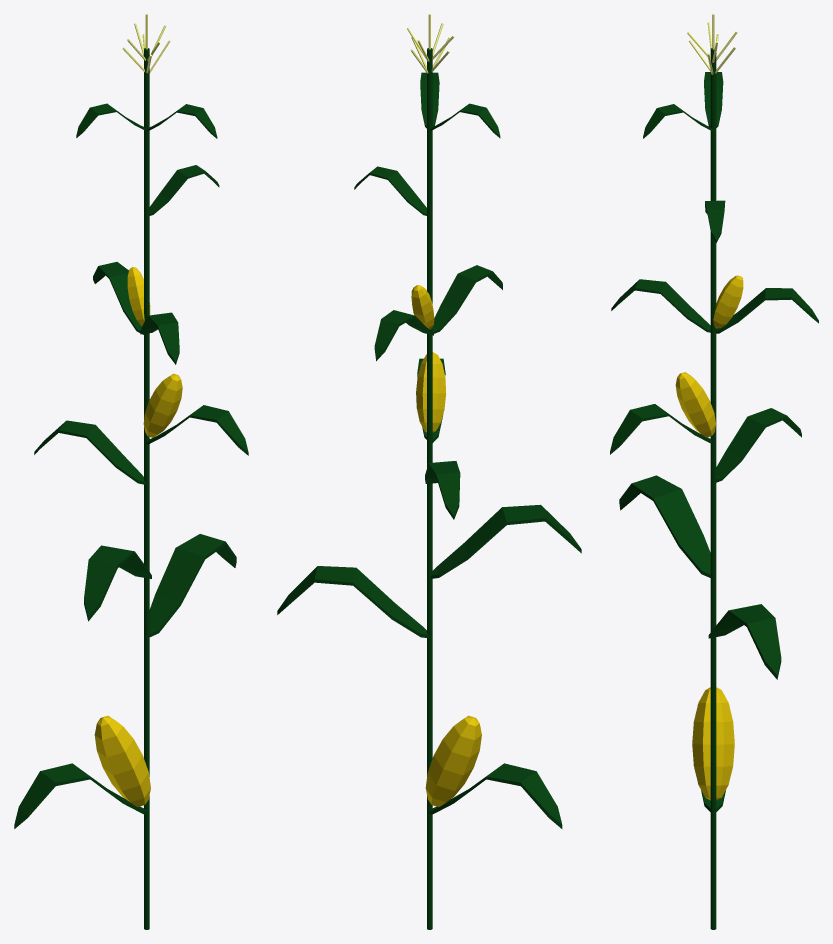
File: corn.glb
3 renders of one model, left to right at view 1: azimuth 30°, elevation 25°; view 2: azimuth 150°, elevation 25°; view 3: azimuth 270°, elevation 25°, orthographic.
Visible parts, largest first — view 1: Cylinder, Cylinder.005, corn3, Cylinder.011, Cylinder.006, Cylinder.004, corn1, Cylinder.003, Cylinder.009, Cylinder.010, Cylinder.012, corn2 (+2 smaller); view 2: Cylinder, corn3, Cylinder.011, Cylinder.005, Cylinder.006, corn1, Cylinder.010, Cylinder.004, Cylinder.009, Cylinder.012, corn2, Cylinder.008; view 3: Cylinder, corn3, Cylinder.011, Cylinder.005, Cylinder.004, corn1, Cylinder.010, Cylinder.003, Cylinder.009, corn2, Cylinder.002, Cylinder.012 (+1 smaller).
Part boxes in pixels (x1,y1,x2,y2): Cylinder: (144, 48, 149, 929); Cylinder.005: (149, 534, 236, 636); corn3: (94, 715, 150, 806); Cylinder.011: (84, 545, 151, 621); Cylinder.006: (14, 763, 147, 828); Cylinder.004: (34, 420, 146, 484); corn1: (143, 373, 182, 437); Cylinder.003: (145, 405, 248, 455); Cylinder.009: (93, 262, 144, 335); Cylinder.010: (140, 312, 179, 364); Cylinder.012: (149, 165, 219, 215); corn2: (127, 266, 150, 325); Cylinder: (427, 48, 432, 929); corn3: (425, 715, 481, 806); Cylinder.011: (431, 504, 581, 578); Cylinder.005: (277, 566, 428, 638); Cylinder.006: (429, 763, 562, 828); corn1: (416, 352, 446, 432); Cylinder.010: (432, 265, 502, 333); Cylinder.004: (425, 461, 460, 519); Cylinder.009: (374, 310, 433, 361); Cylinder.012: (354, 166, 427, 215); corn2: (411, 285, 434, 329); Cylinder.008: (420, 72, 439, 128); Cylinder: (710, 48, 716, 929); corn3: (692, 687, 734, 800); Cylinder.011: (619, 475, 710, 577); Cylinder.005: (708, 604, 781, 679); Cylinder.004: (716, 408, 801, 482); corn1: (675, 372, 715, 437); Cylinder.010: (611, 279, 710, 332); Cylinder.003: (610, 404, 712, 454); Cylinder.009: (716, 288, 818, 333); corn2: (713, 275, 743, 328); Cylinder.002: (704, 72, 723, 127); Cylinder.012: (705, 200, 725, 242).
Bounding box in the file's own units: 0.7523 × 2.6 × 0.5379.
